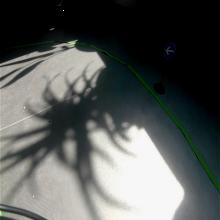left: (162, 40, 177, 61)
